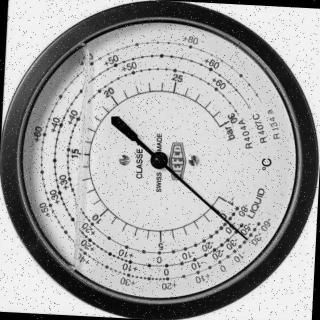gauge: (0, 0, 320, 320), (206, 183, 238, 213), (213, 112, 240, 134), (148, 150, 168, 170), (238, 231, 252, 245)
